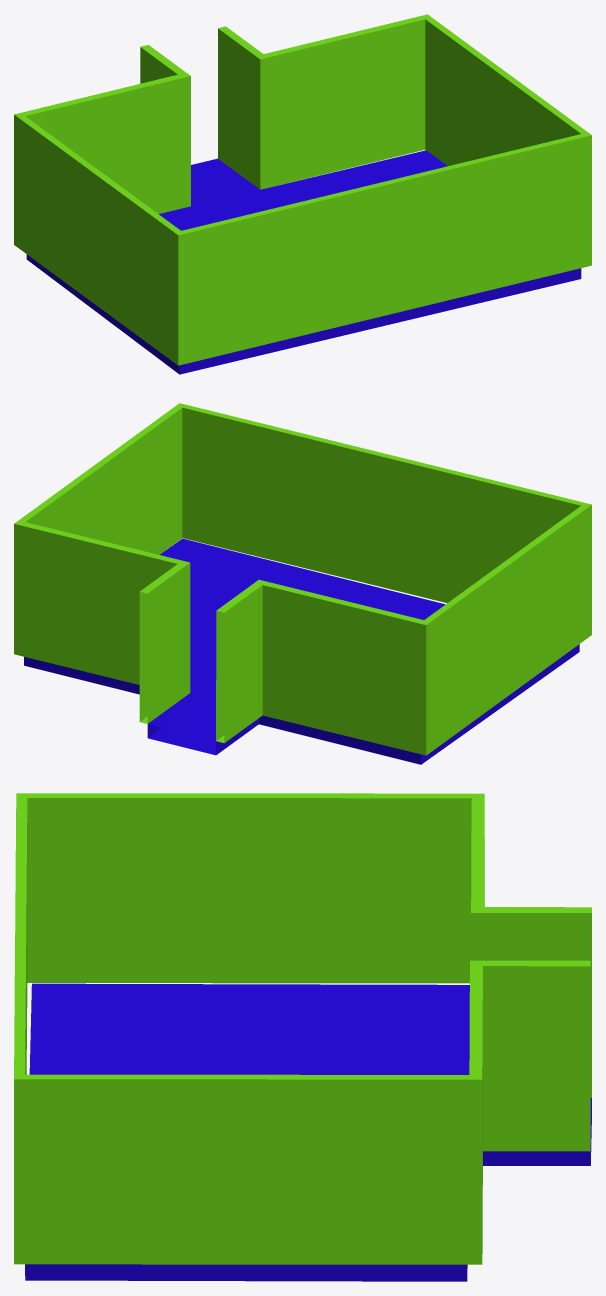
File: OfficeA_3.fbx
3 views of the same model, one above another, from view 1: azimuth 30°, elevation 25°; view 2: azimuth 150°, elevation 25°; view 3: azimuth 270°, elevation 25° (orthographic). The views are drawn at different scales.
Visible parts, largest first — view 1: Cube.001; view 2: Cube.001; view 3: Cube.001.
Boxes of the visible parts, x1,y1,x2,y2 form: Cube.001: [14, 14, 591, 374]; Cube.001: [14, 403, 591, 764]; Cube.001: [14, 793, 591, 1281].
Size of the model in its own units: 610 by 205 by 520.
